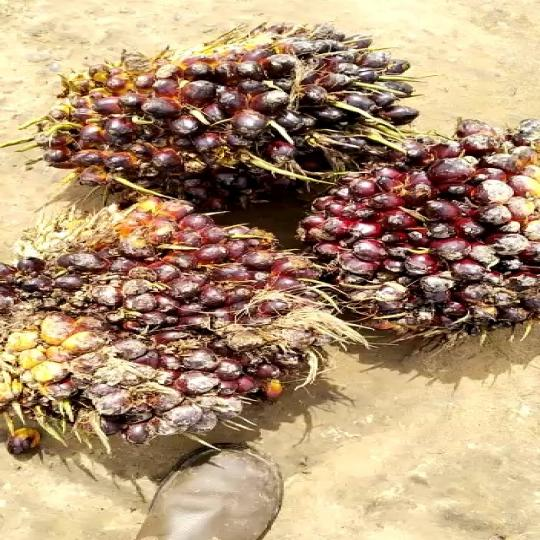kurang masak: (0, 202, 350, 456), (50, 26, 420, 217), (291, 115, 540, 344)
